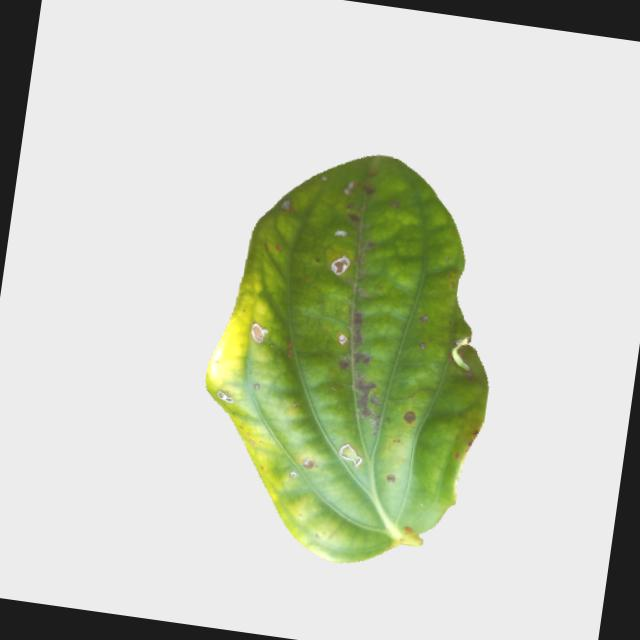yellow-mottle-virus: (179, 142, 529, 580)
